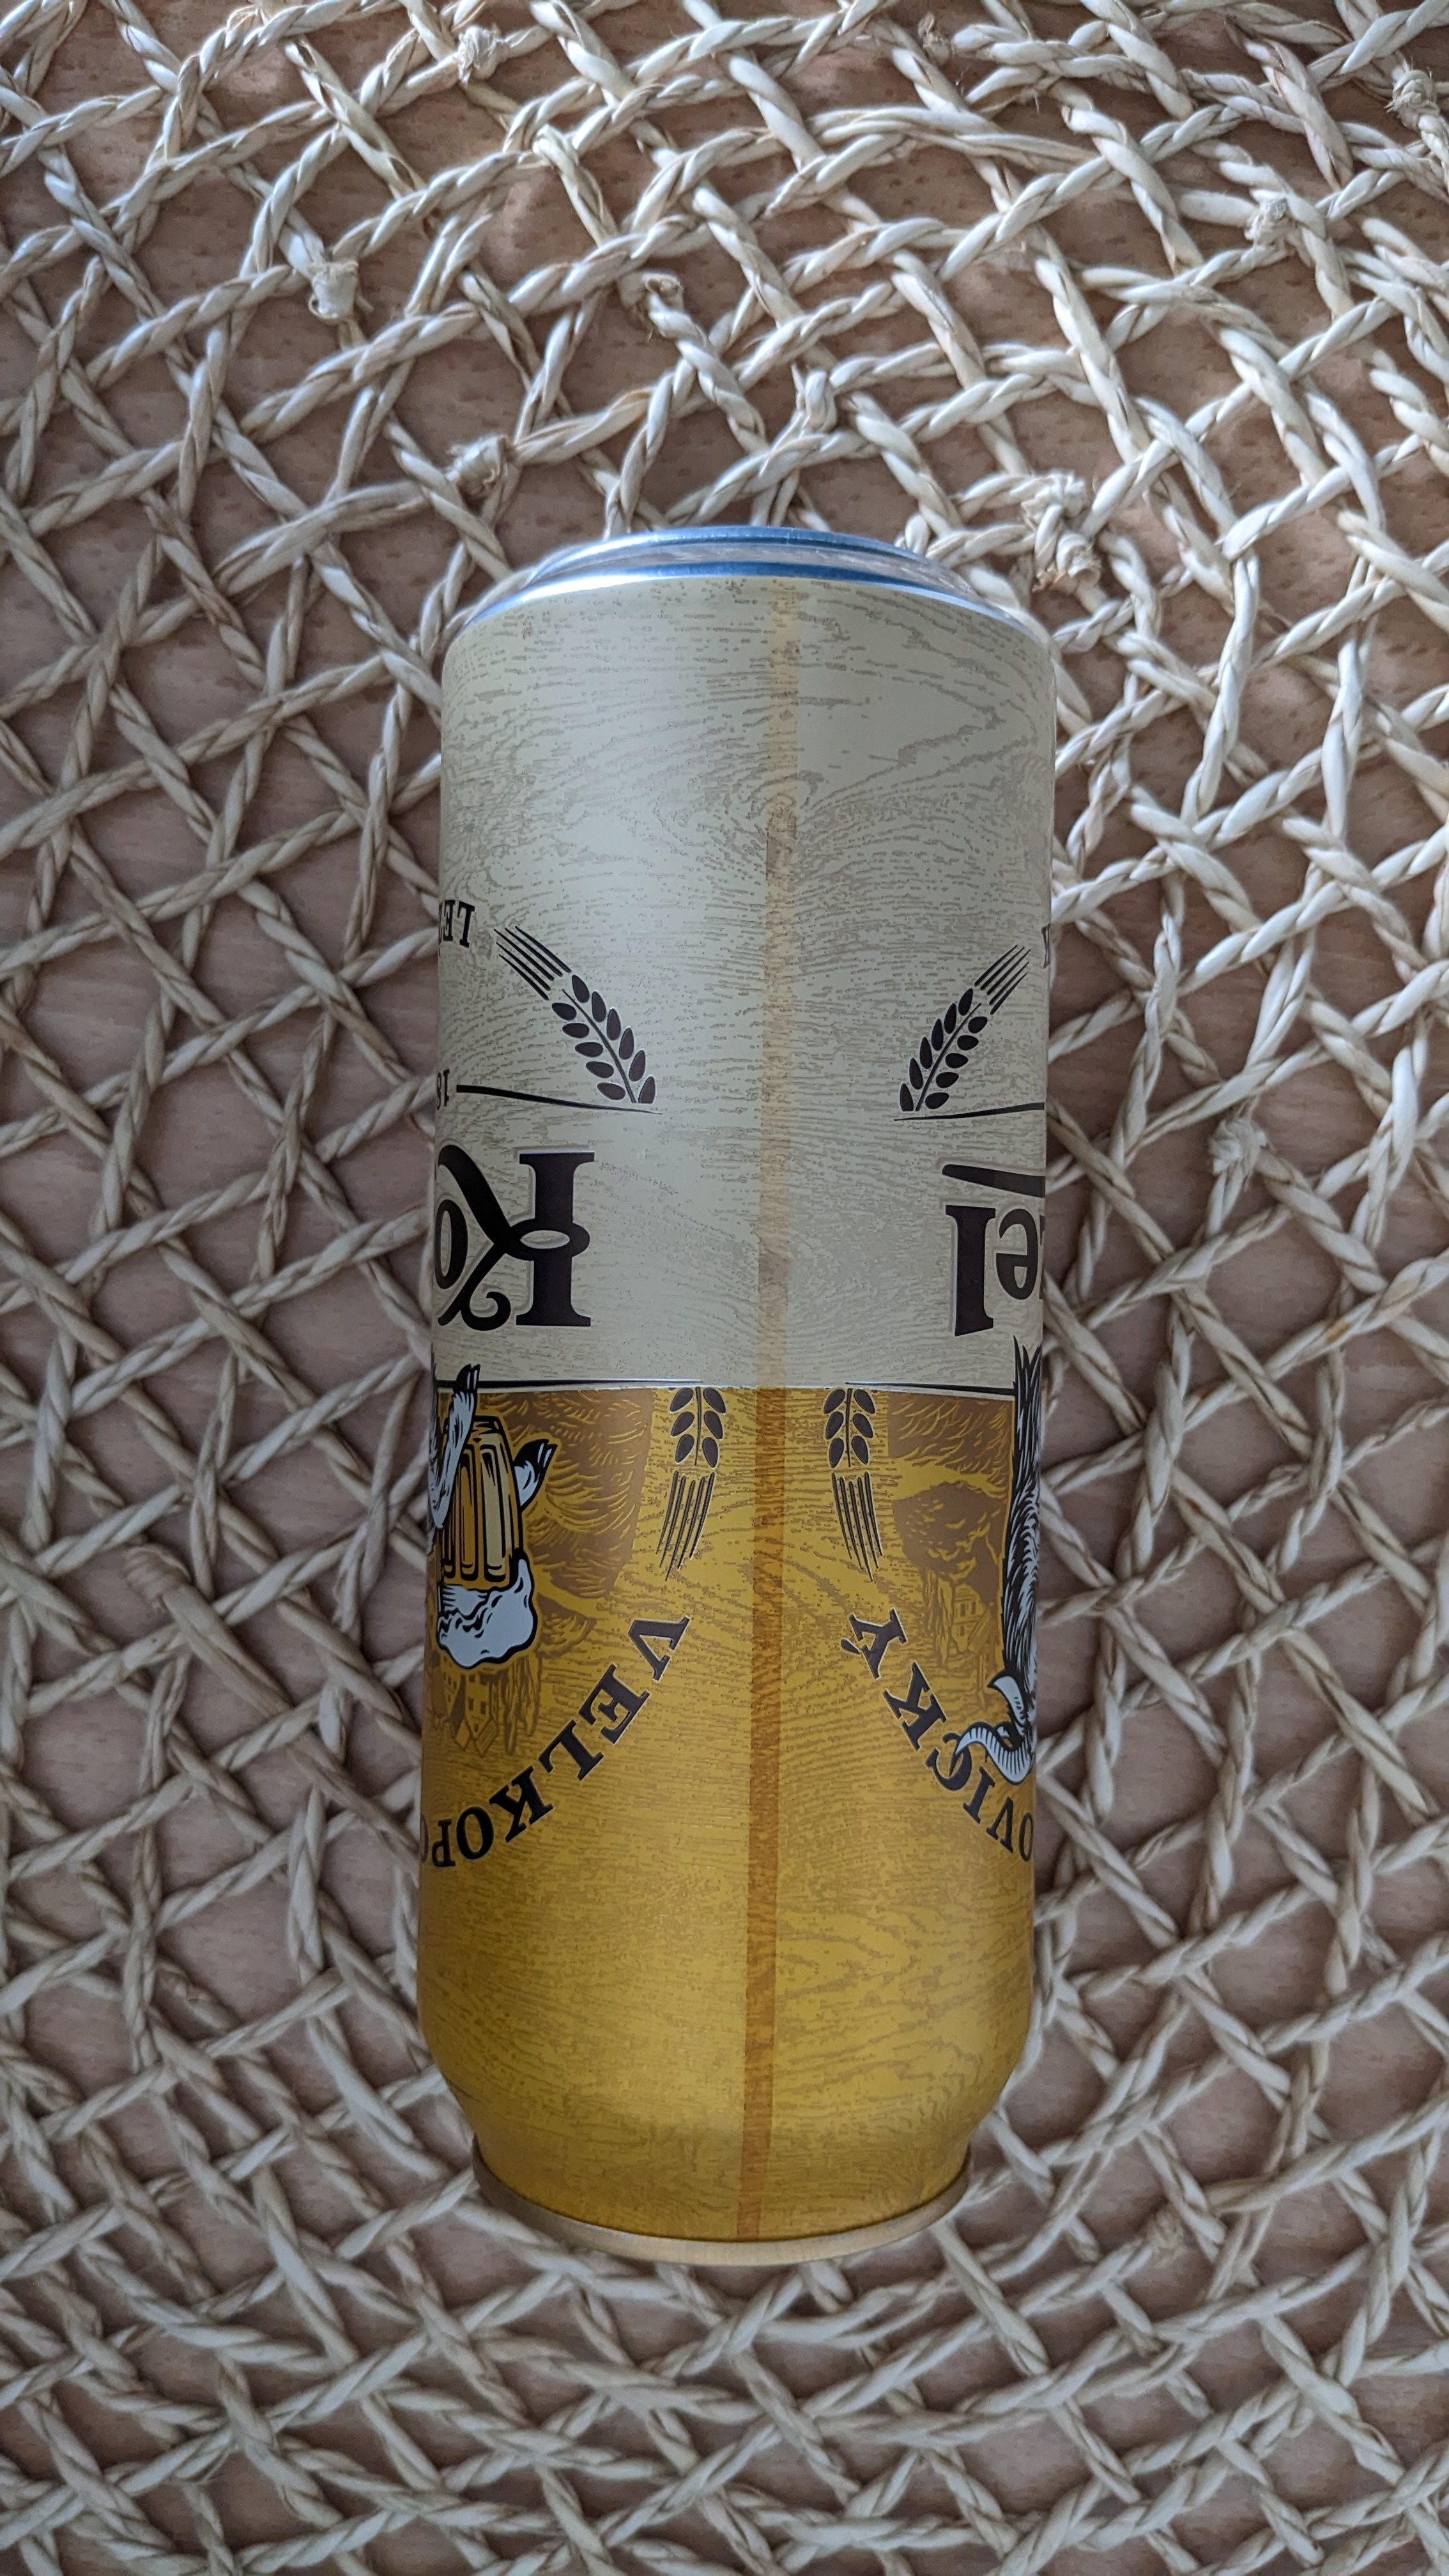kozel: (435, 520, 1026, 2288)
